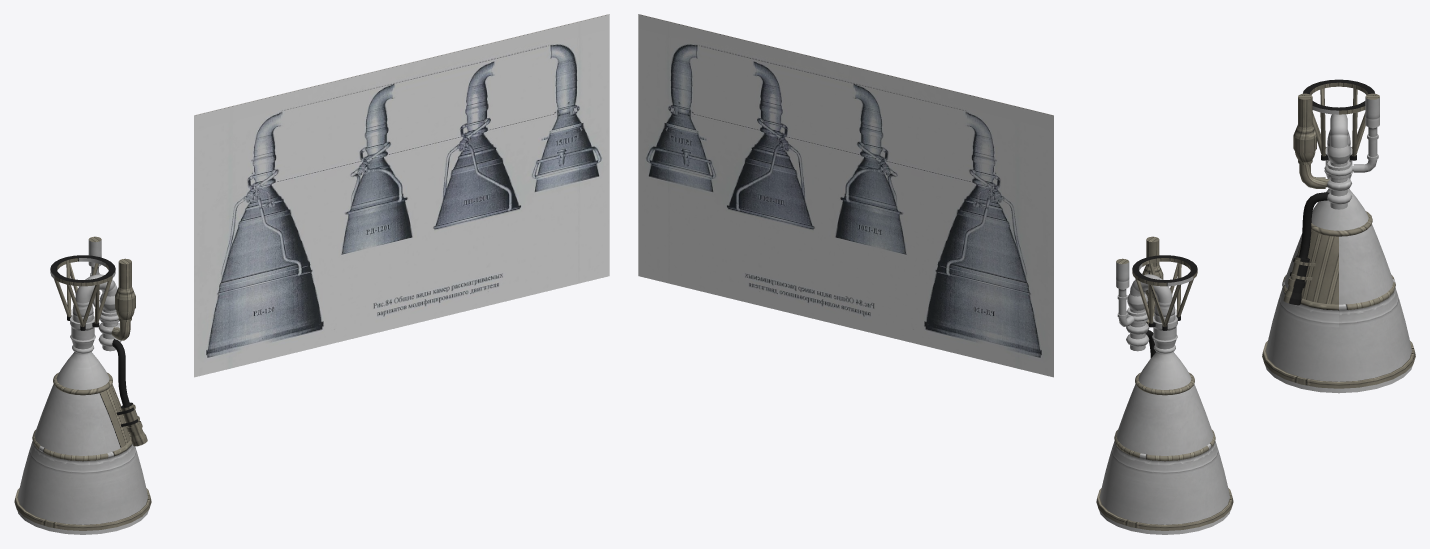
Rendered from hydra_lv_engine_s0_2.obj.
3 renders of one model, left to right at view 1: azimuth 30°, elevation 25°; view 2: azimuth 150°, elevation 25°; view 3: azimuth 270°, elevation 25°, orthographic. The views are drawn at different scales.
Visible parts, largest first — view 1: image1, 3; view 2: image1, 3; view 3: 3.
Boxes of the visible parts, x1,y1,x2,y2 form: image1: (194, 14, 609, 377); 3: (14, 236, 151, 534); image1: (638, 14, 1053, 377); 3: (1096, 236, 1233, 534); 3: (1262, 79, 1415, 393).
Size of the model in its own units: 6.45 by 3.83 by 1.31.
